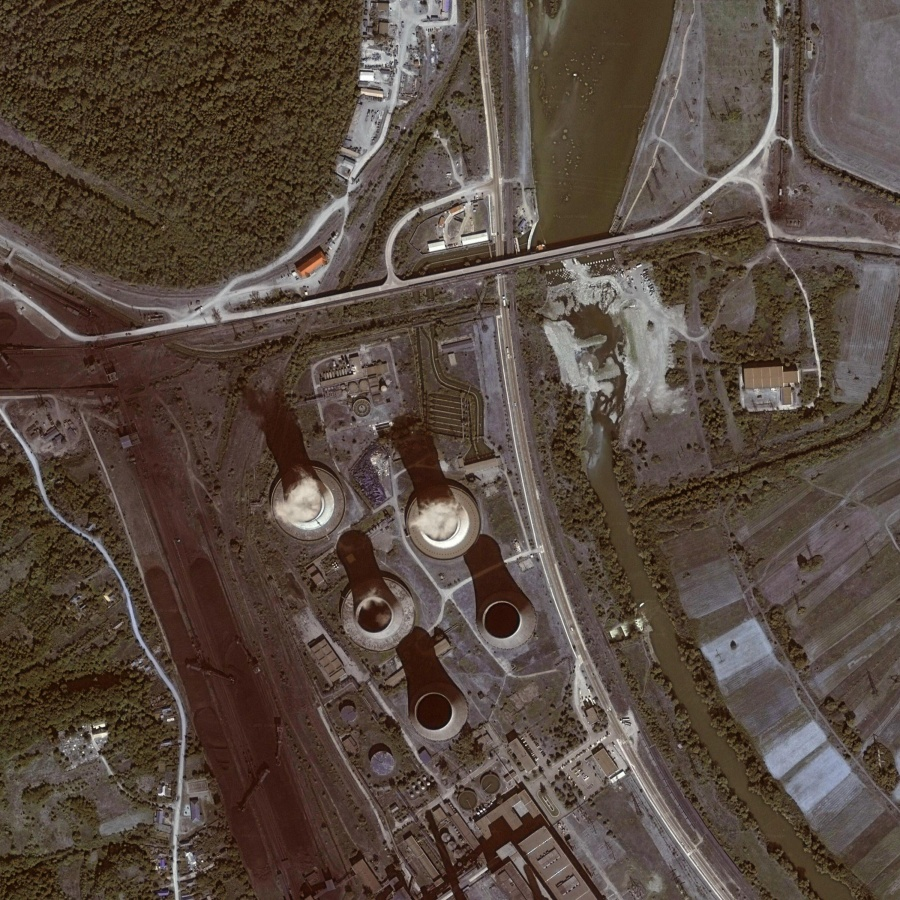PowerPlant: (109, 343, 549, 886)
